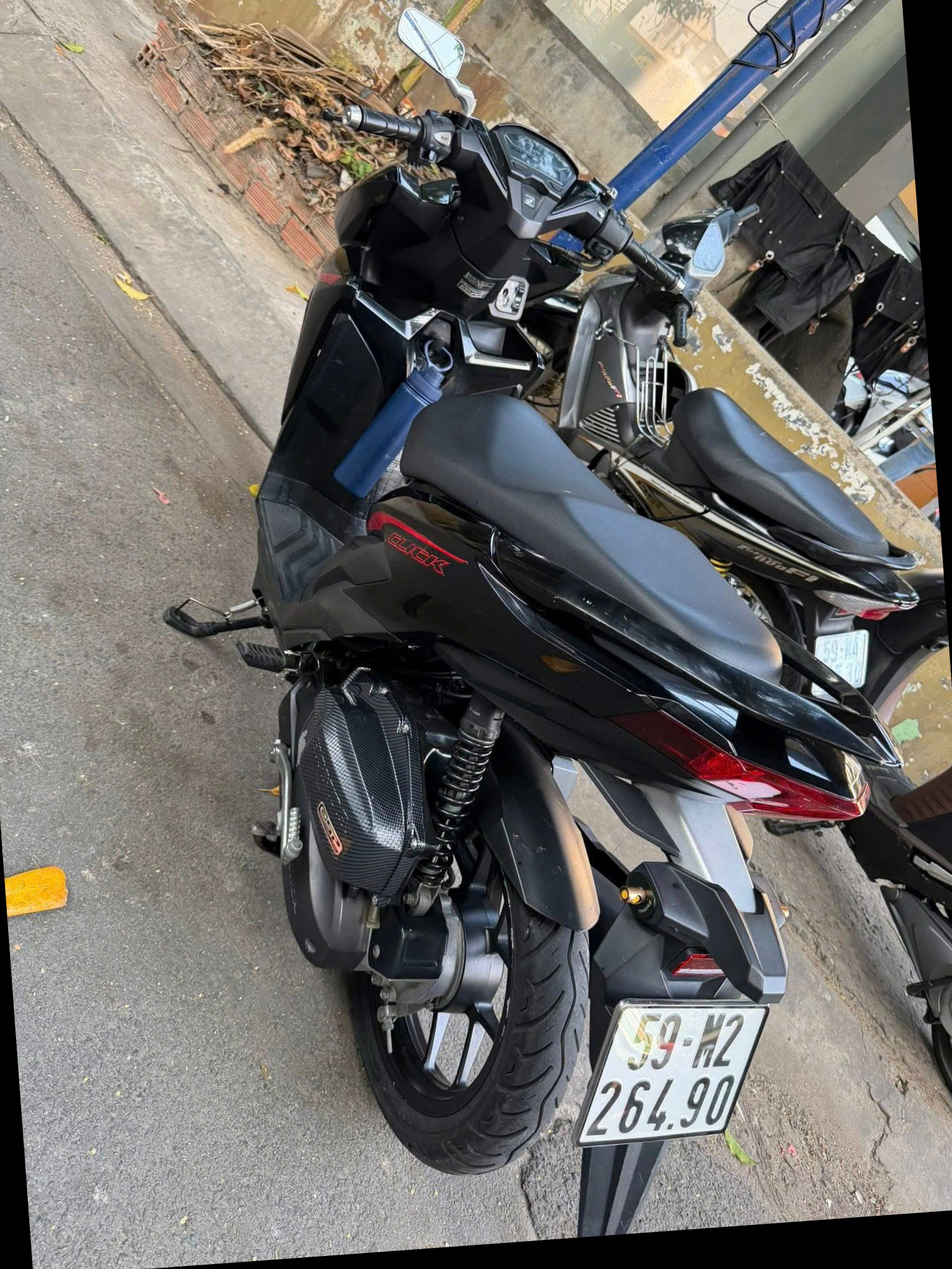Bien-so: (550, 1062, 734, 1215), (799, 714, 850, 774)
